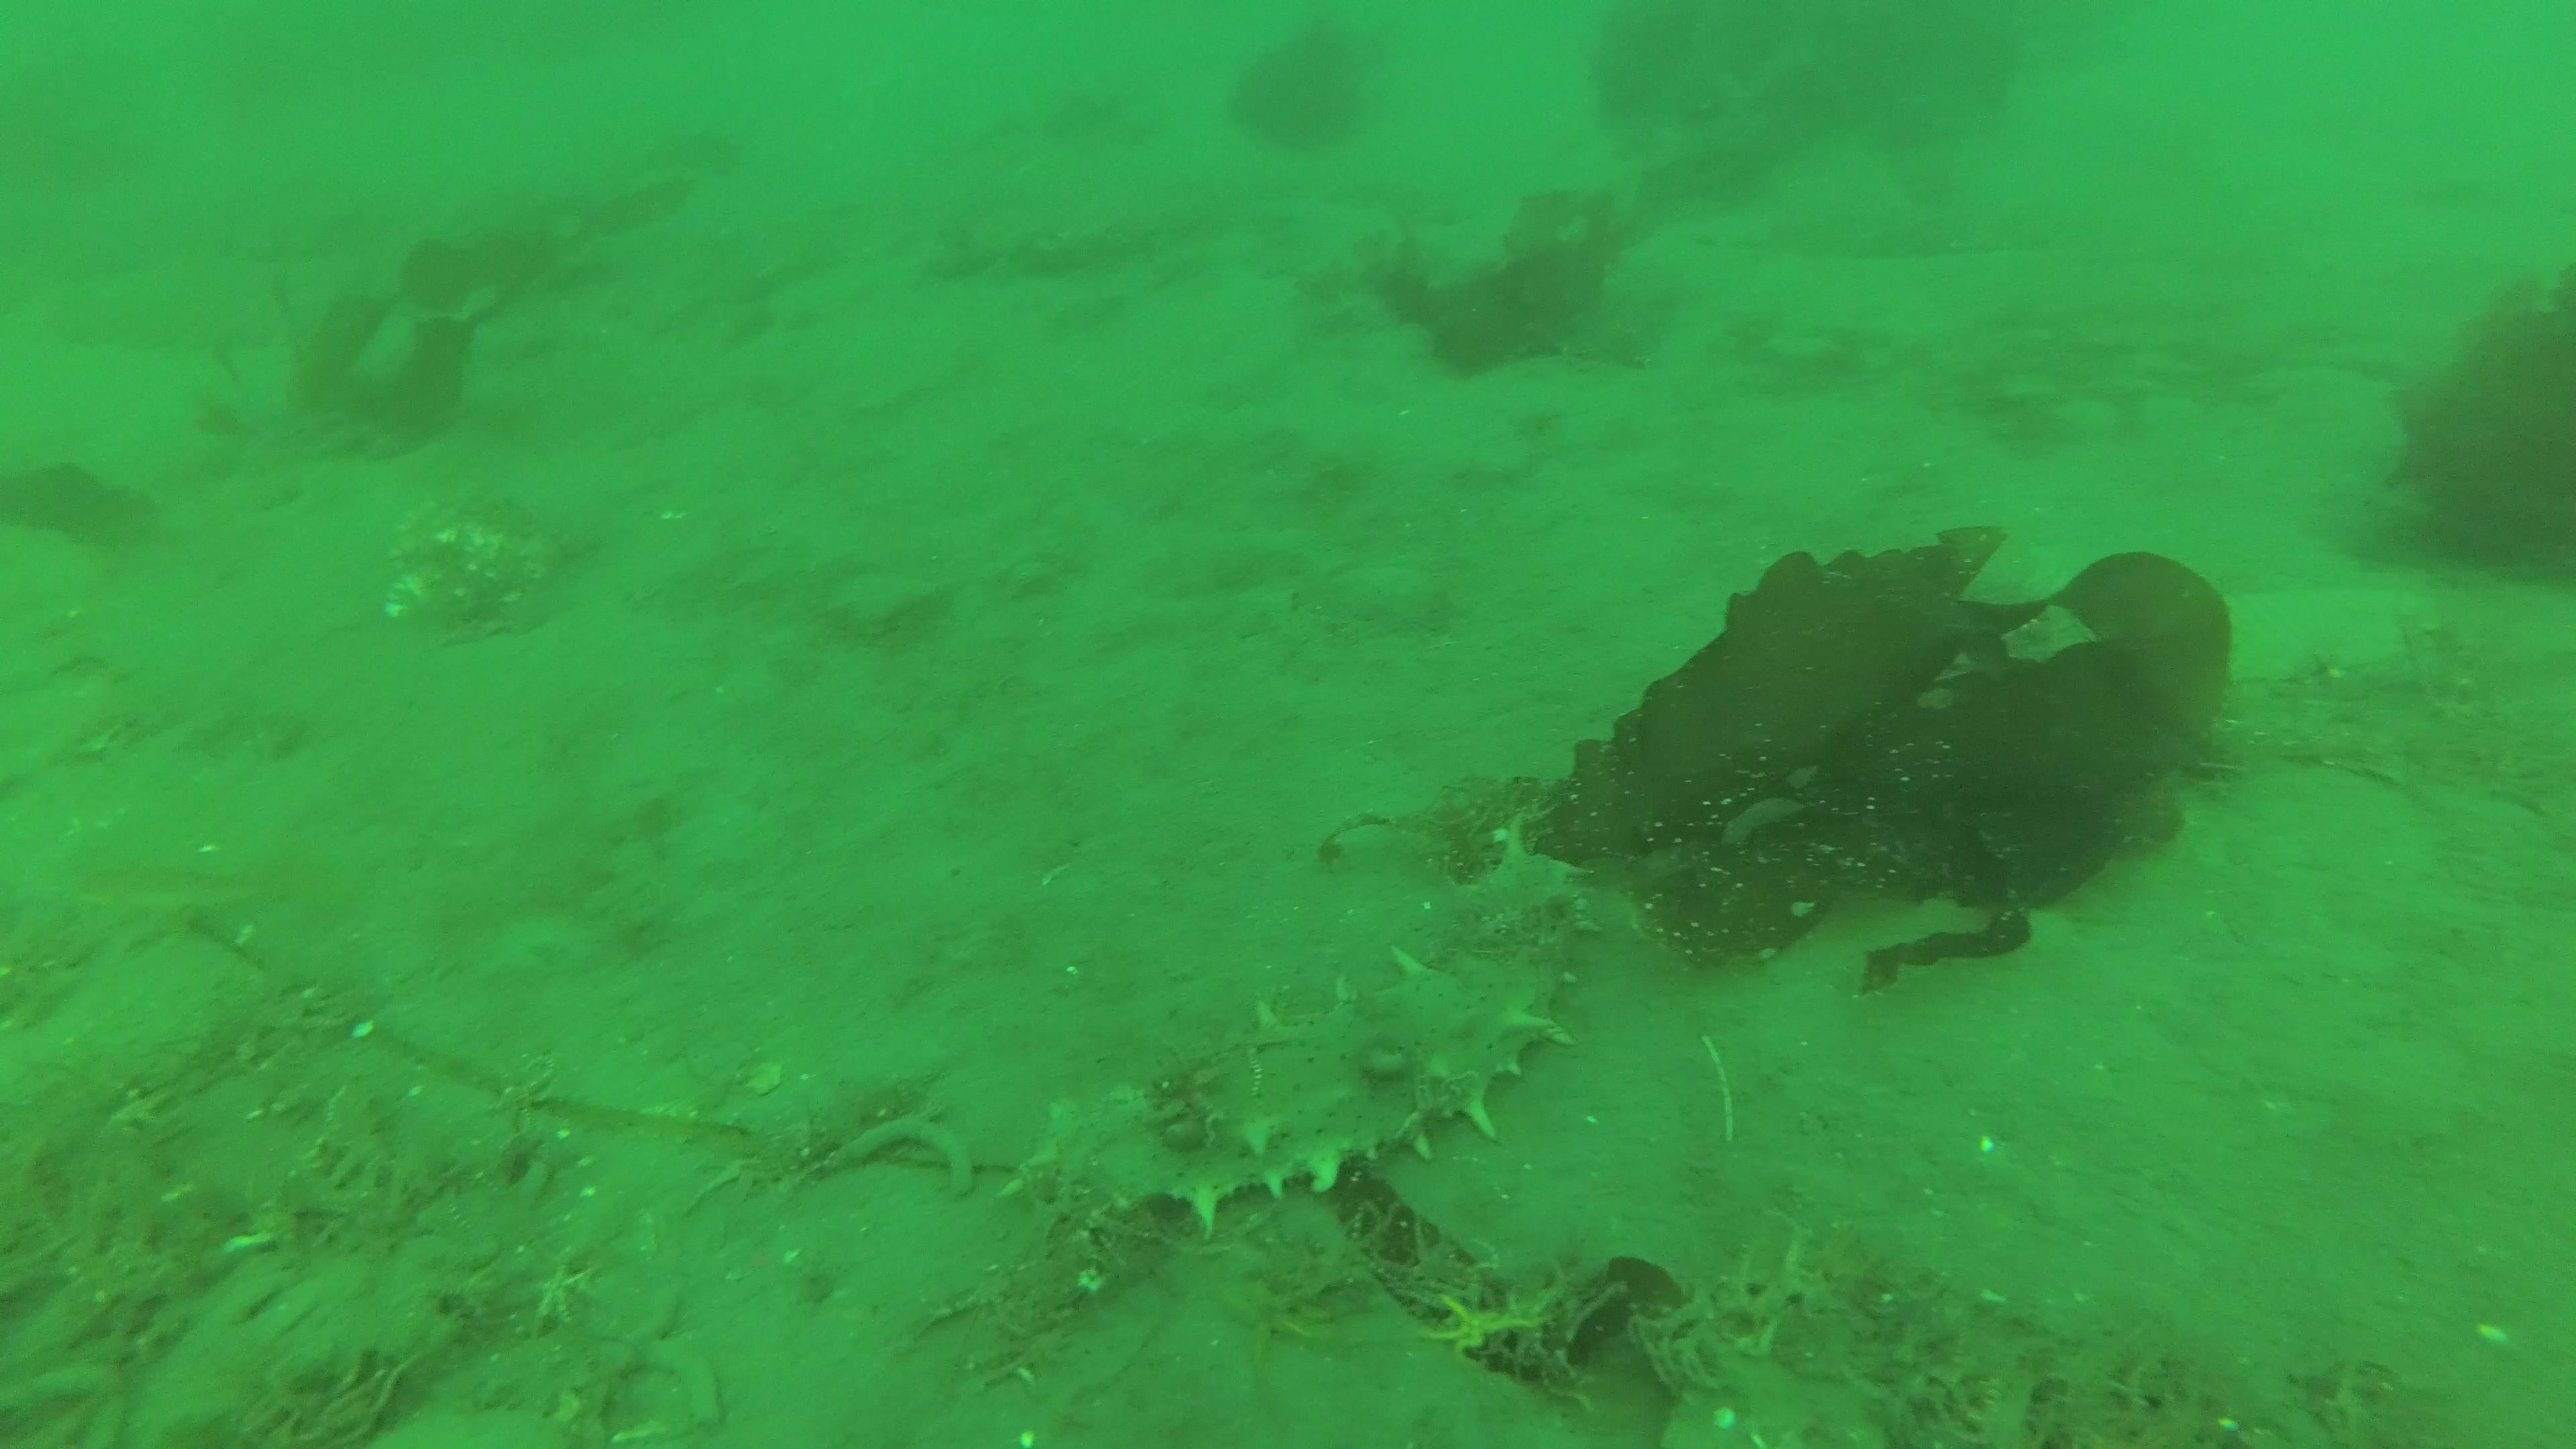holothurian: (1065, 809, 1601, 1205)
scallop: (382, 511, 554, 646)
